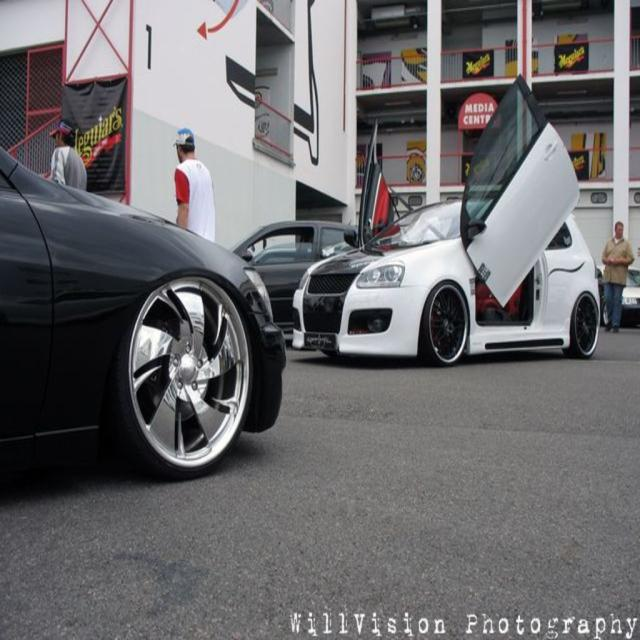car: (285, 70, 600, 355)
